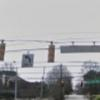traffic lights: (0, 38, 8, 60)
